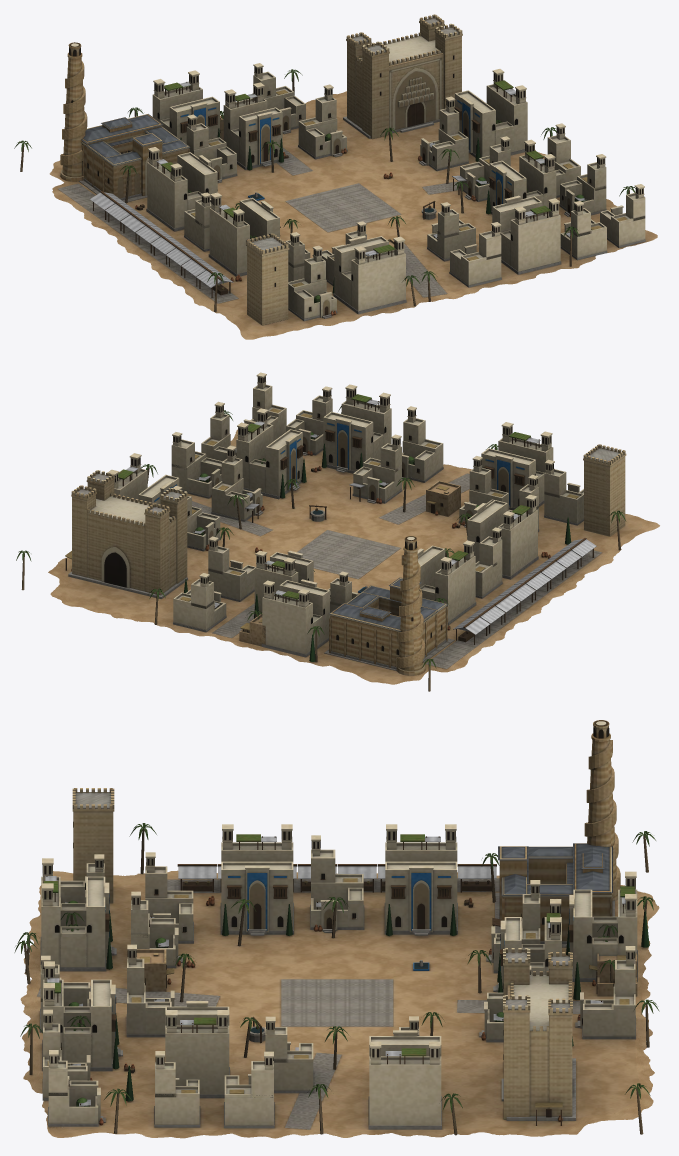
Rendered from kingdoms-town-big-b-levant.glb.
3 renders of one model, top to bottom at view 1: azimuth 30°, elevation 25°; view 2: azimuth 150°, elevation 25°; view 3: azimuth 270°, elevation 25°, orthographic. The views are drawn at different scales.
Parts seen in each view (by area): view 1: LOD0; view 2: LOD0; view 3: LOD0.
Part boxes in pixels (x1,y1,x2,y2): LOD0: (14,14,657,339); LOD0: (16,372,659,691); LOD0: (14,720,659,1138).
Size of what is drawn, in the model's own units: 8.12 by 2.4 by 8.14.
3 materials, 3 textured.
